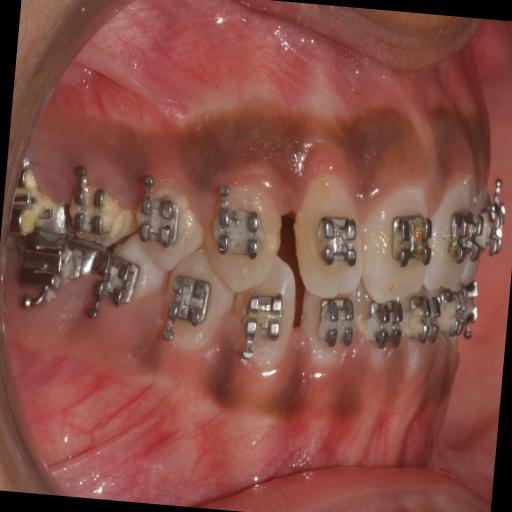correct_brace: (128, 169, 208, 277), (207, 180, 268, 265), (308, 205, 368, 275), (383, 207, 439, 278)
incorrect_brace: (288, 155, 378, 309), (133, 172, 185, 254)
